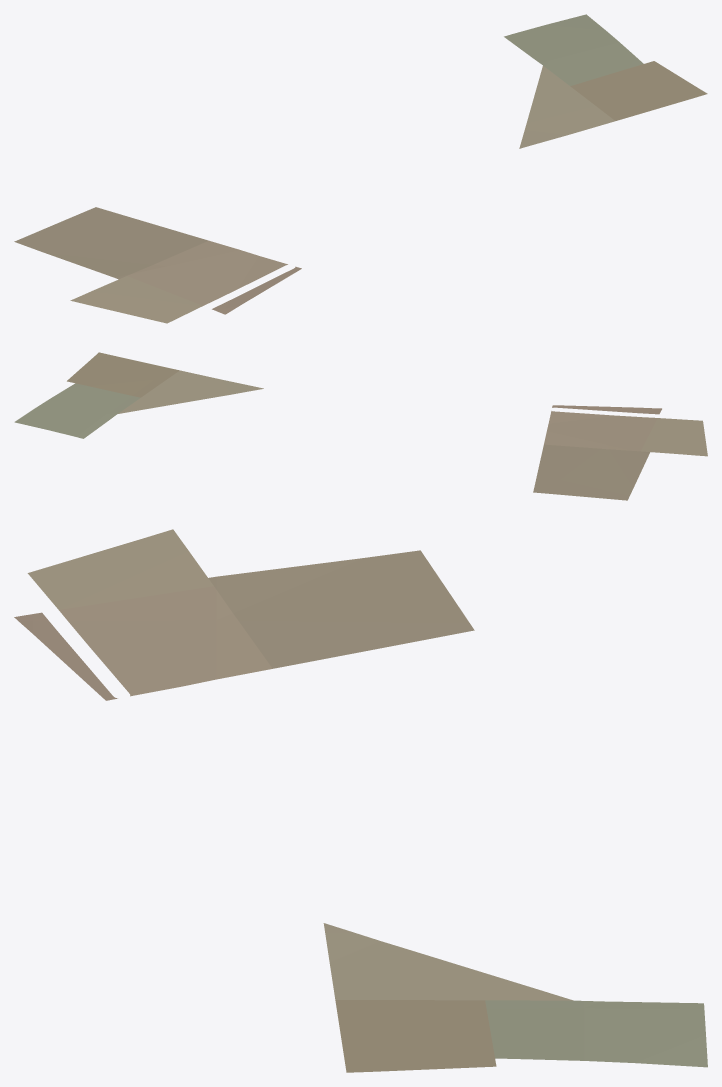
Rendered from farm_21_13_soil.glb.
The picture shows the model from 3 angles, top to bottom: view 1: azimuth 30°, elevation 25°; view 2: azimuth 150°, elevation 25°; view 3: azimuth 270°, elevation 25°; orthographic projection. The views are drawn at different scales.
Visible parts, largest first — view 1: geometry_0; view 2: geometry_0; view 3: geometry_0.
Part boxes in pixels (x1,y1,x2,y2): geometry_0: (14, 14, 707, 323); geometry_0: (14, 352, 707, 500); geometry_0: (14, 529, 707, 1072).
Size of the model in its own units: 557 by 3.56 by 302.
